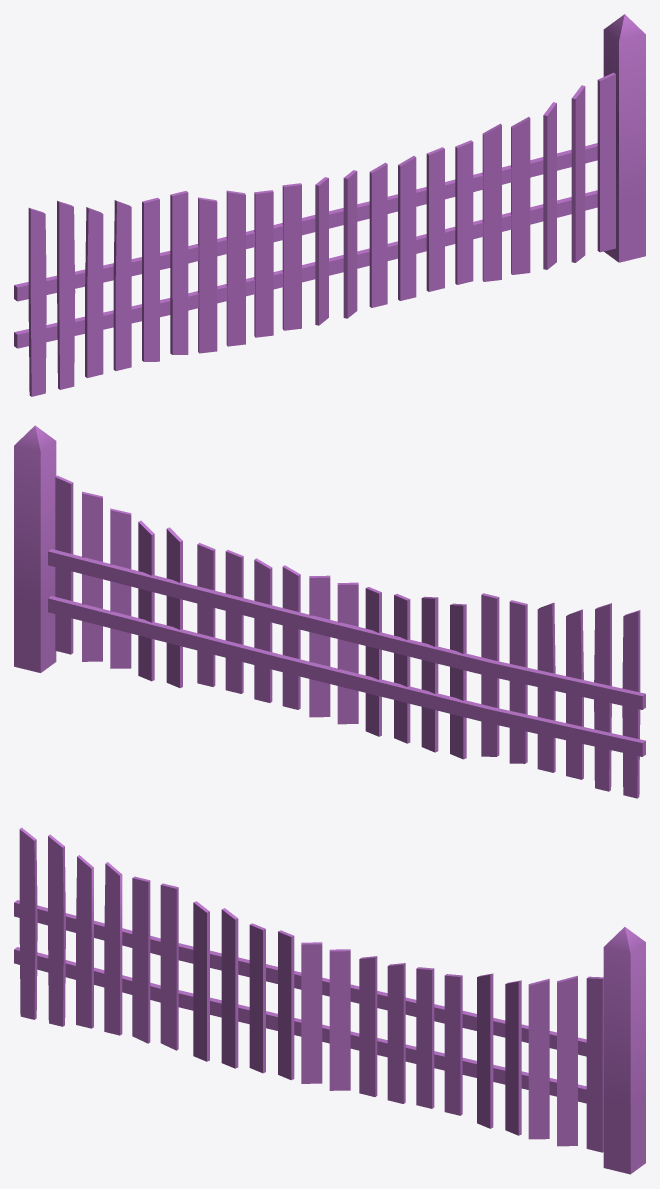
File: Struct_Fence3_Mid_A.fbx
3 views of the same model, one above another, from view 1: azimuth 30°, elevation 25°; view 2: azimuth 150°, elevation 25°; view 3: azimuth 330°, elevation 25° (orthographic).
Visible parts, largest first — view 1: Struct_Fence3_Mid_A_LOD0; view 2: Struct_Fence3_Mid_A_LOD0; view 3: Struct_Fence3_Mid_A_LOD0.
Boxes of the visible parts, left/top/right/bottom form: Struct_Fence3_Mid_A_LOD0: left=14, top=14, right=645, bottom=396; Struct_Fence3_Mid_A_LOD0: left=14, top=425, right=645, bottom=798; Struct_Fence3_Mid_A_LOD0: left=14, top=827, right=645, bottom=1174.
Size of what is drawn, in the model's own units: 6.58 by 2.42 by 0.3147.
